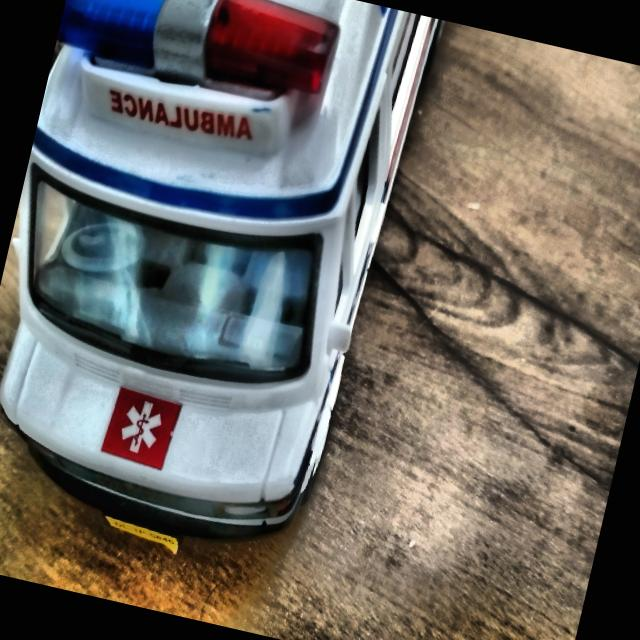Ambulance: (0, 0, 461, 602)
